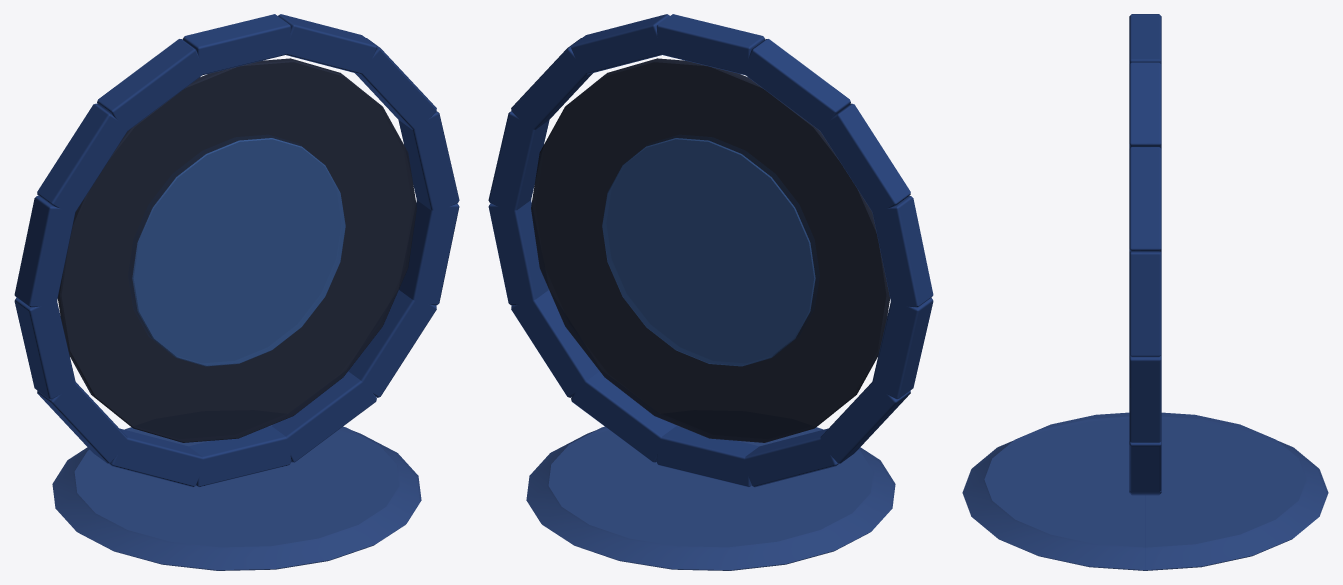
File: ink_portal.glb
3 renders of one model, left to right at view 1: azimuth 30°, elevation 25°; view 2: azimuth 150°, elevation 25°; view 3: azimuth 270°, elevation 25°, orthographic.
Parts seen in each view (by area): view 1: portal_void, portal_core, base_puddle, portal_ring_5, portal_ring_4, portal_ring_6, portal_ring_3, portal_ring_12, portal_ring_11, portal_ring_13, portal_ring_7, portal_ring_10 (+5 smaller); view 2: portal_void, portal_core, base_puddle, portal_ring_5, portal_ring_4, portal_ring_6, portal_ring_3, portal_ring_12, portal_ring_11, portal_ring_13, portal_ring_7, portal_ring_10 (+5 smaller); view 3: base_puddle, portal_ring_0, portal_ring_1, portal_ring_13, portal_ring_2, portal_ring_12, portal_ring_3.
Boxes of the visible parts, box(x1,y1,x2,y2) form: portal_void: box(57, 58, 416, 442); portal_core: box(132, 138, 345, 366); base_puddle: box(52, 424, 421, 570); portal_ring_5: box(37, 103, 128, 214); portal_ring_4: box(97, 39, 205, 132); portal_ring_6: box(14, 196, 75, 307); portal_ring_3: box(182, 14, 291, 74); portal_ring_12: box(348, 290, 436, 397); portal_ring_11: box(272, 371, 376, 462); portal_ring_13: box(399, 200, 459, 305); portal_ring_7: box(14, 298, 75, 399); portal_ring_10: box(189, 426, 291, 487); portal_void: box(531, 58, 890, 442); portal_core: box(602, 138, 815, 366); base_puddle: box(526, 424, 895, 570); portal_ring_5: box(820, 103, 910, 214); portal_ring_4: box(744, 39, 850, 132); portal_ring_6: box(872, 196, 933, 307); portal_ring_3: box(656, 14, 765, 74); portal_ring_12: box(511, 290, 599, 397); portal_ring_11: box(571, 371, 675, 462); portal_ring_13: box(488, 200, 548, 305); portal_ring_7: box(872, 298, 933, 399); portal_ring_10: box(656, 426, 758, 487); base_puddle: box(962, 412, 1328, 570); portal_ring_0: box(1129, 251, 1161, 357); portal_ring_1: box(1129, 146, 1161, 251); portal_ring_13: box(1129, 355, 1161, 442); portal_ring_2: box(1129, 62, 1161, 148); portal_ring_12: box(1129, 441, 1161, 492); portal_ring_3: box(1129, 15, 1161, 63).
Size of the model in its own units: 1.21 by 1.24 by 0.9.
